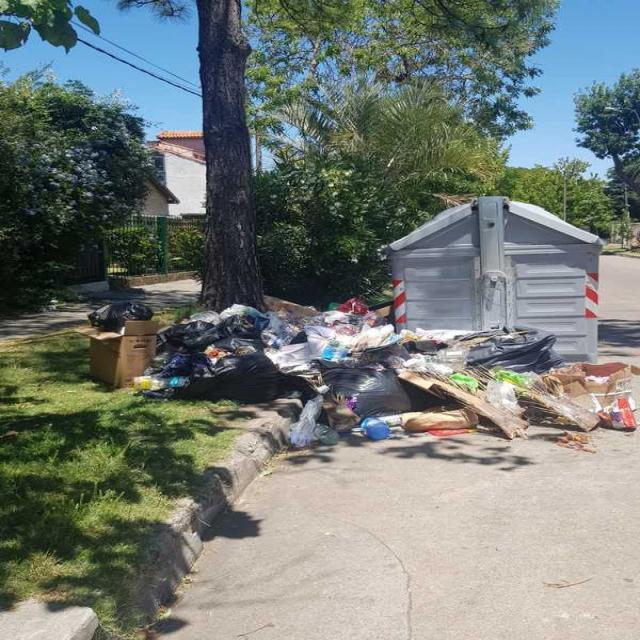high trash: (90, 301, 638, 445)
